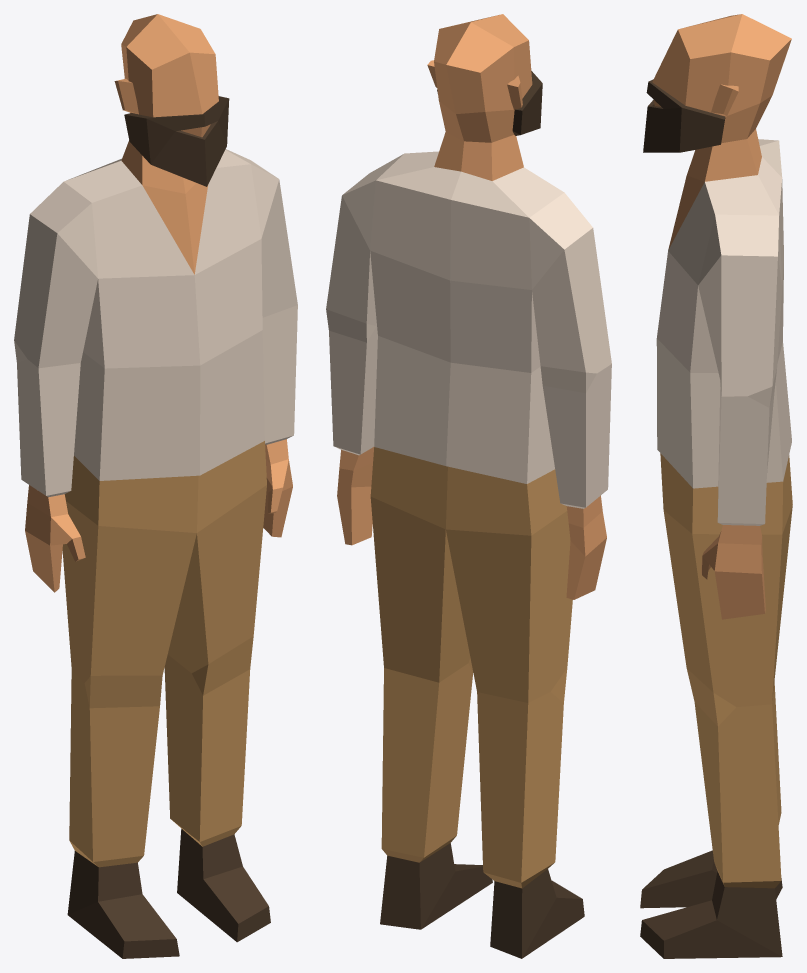
The model's file is man-worker.glb.
3 renders of one model, left to right at view 1: azimuth 30°, elevation 25°; view 2: azimuth 150°, elevation 25°; view 3: azimuth 270°, elevation 25°, orthographic.
Visible parts, largest first — view 1: man-worker; view 2: man-worker; view 3: man-worker.
Boxes of the visible parts, x1=… form: man-worker: x1=14, y1=14, x2=297, y2=958; man-worker: x1=326, y1=14, x2=611, y2=958; man-worker: x1=640, y1=14, x2=792, y2=958.
Size of the model in its own units: 0.5438 by 1.8 by 0.2741.
1 material, 1 textured.
